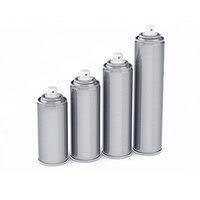Aerosols: (20, 29, 182, 173)
